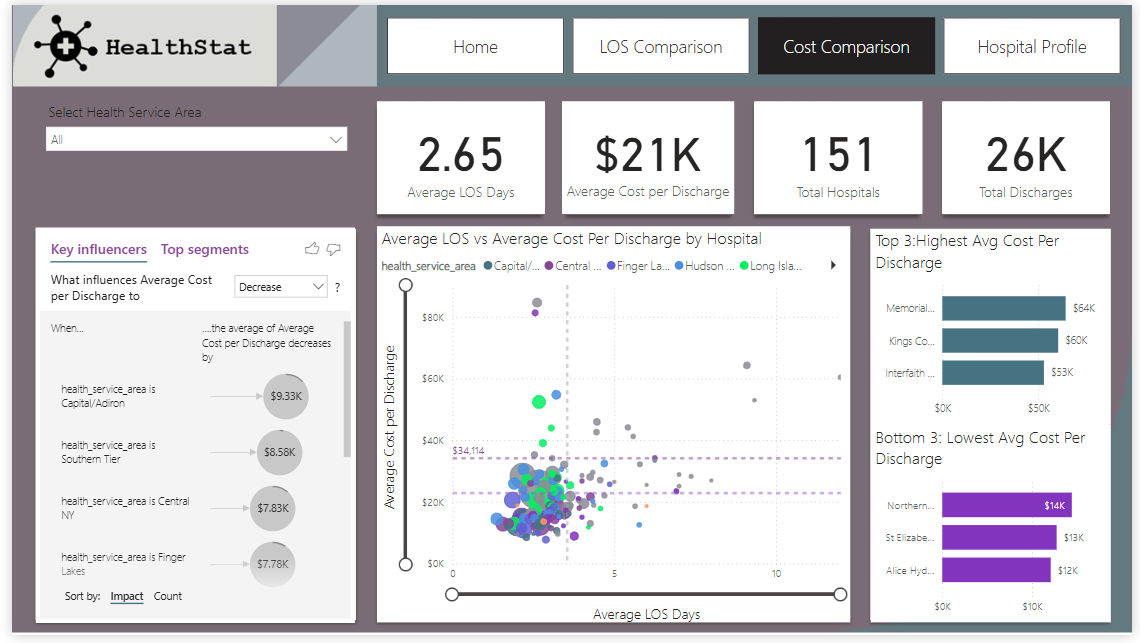

The dashboard page shown, as its layout file describes it:
{"tool":"powerbi","page":{"name":"Cost Comparison","canvas":[1280,720],"ordinal":2},"visuals":[{"type":"scatterChart","title":"Average LOS vs Average Cost Per Discharge by Hospital","fields":{"Category":["hospital_discharges.facility_name"],"X":["__Measures.Average LOS Days"],"Y":["__Measures.Average Cost per Discharge"],"Size":["__Measures.Total Discharges"],"Series":["hospital_discharges.health_service_area"]},"box":[416.6,253.2,541,452.5],"z":0},{"type":"slicer","fields":{"Values":["hospital_discharges.health_service_area"]},"box":[28.5,106.4,364.1,127.4],"z":1000},{"type":"keyDriversVisual","fields":{"ExplainBy":["hospital_discharges.apr_risk_of_mortality","hospital_discharges.apr_severity_of_illness_description","hospital_discharges.ccs_diagnosis_description","hospital_discharges.patient_disposition","hospital_discharges.gender","hospital_discharges.Age Bins","Surgical_program_size_summery.Surgical Program Size","hospital_discharges.health_service_area"],"Target":["__Measures.Average Cost per Discharge"]},"box":[27,254,365.1,452.4],"z":2000},{"type":"card","fields":{"Values":["__Measures.Average LOS Days"]},"box":[416.6,109.4,191.8,128.9],"z":3000},{"type":"card","fields":{"Values":["__Measures.Average Cost per Discharge"]},"box":[628.6,109.5,196.8,128.6],"z":4000},{"type":"card","fields":{"Values":["__Measures.Total Hospitals"]},"box":[848.2,109.4,191.8,128.9],"z":5000},{"type":"card","fields":{"Values":["__Measures.Total Discharges"]},"box":[1062.4,109.4,191.8,128.9],"z":6000},{"type":"clusteredBarChart","title":"Top 3:Highest Avg Cost Per Discharge","fields":{"Category":["hospital_discharges.facility_name"],"Y":["__Measures.Average Cost per Discharge"]},"box":[981.2,255.6,274.2,223.8],"z":7000},{"type":"clusteredBarChart","title":"Bottom 3: Lowest Avg Cost Per Discharge","fields":{"Category":["hospital_discharges.facility_name"],"Y":["__Measures.Average Cost per Discharge"]},"box":[981,479.4,274.6,225.4],"z":8000},{"type":"pageNavigator","box":[428.6,14.3,838.1,65.1],"z":8001}]}

Visuals, with their boxes in screenshot pixels (x1, y1, x2, y2), scaled from the page's 1280x720 canvas onto the 1140x643 screenshot:
"Average LOS vs Average Cost Per Discharge by Hospital" scatterChart: (x1=371, y1=226, x2=853, y2=630)
slicer - hospital_discharges.health_service_area: (x1=25, y1=95, x2=350, y2=209)
keyDriversVisual - hospital_discharges.apr_risk_of_mortality x hospital_discharges.apr_severity_of_illness_description: (x1=24, y1=227, x2=349, y2=631)
card - __Measures.Average LOS Days: (x1=371, y1=98, x2=542, y2=213)
card - __Measures.Average Cost per Discharge: (x1=560, y1=98, x2=735, y2=213)
card - __Measures.Total Hospitals: (x1=755, y1=98, x2=926, y2=213)
card - __Measures.Total Discharges: (x1=946, y1=98, x2=1117, y2=213)
"Top 3:Highest Avg Cost Per Discharge" clusteredBarChart: (x1=874, y1=228, x2=1118, y2=428)
"Bottom 3: Lowest Avg Cost Per Discharge" clusteredBarChart: (x1=874, y1=428, x2=1118, y2=629)
pageNavigator: (x1=382, y1=13, x2=1128, y2=71)
